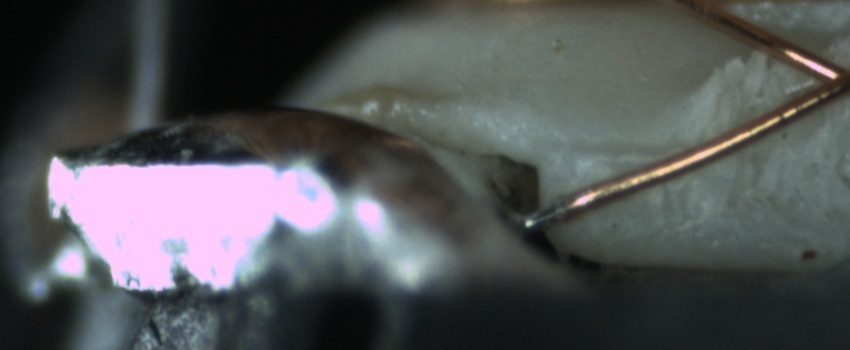CL: (773, 38, 849, 113)
DL: (559, 118, 691, 182)
TS: (519, 198, 571, 233)
TTCW: (514, 180, 603, 230)
